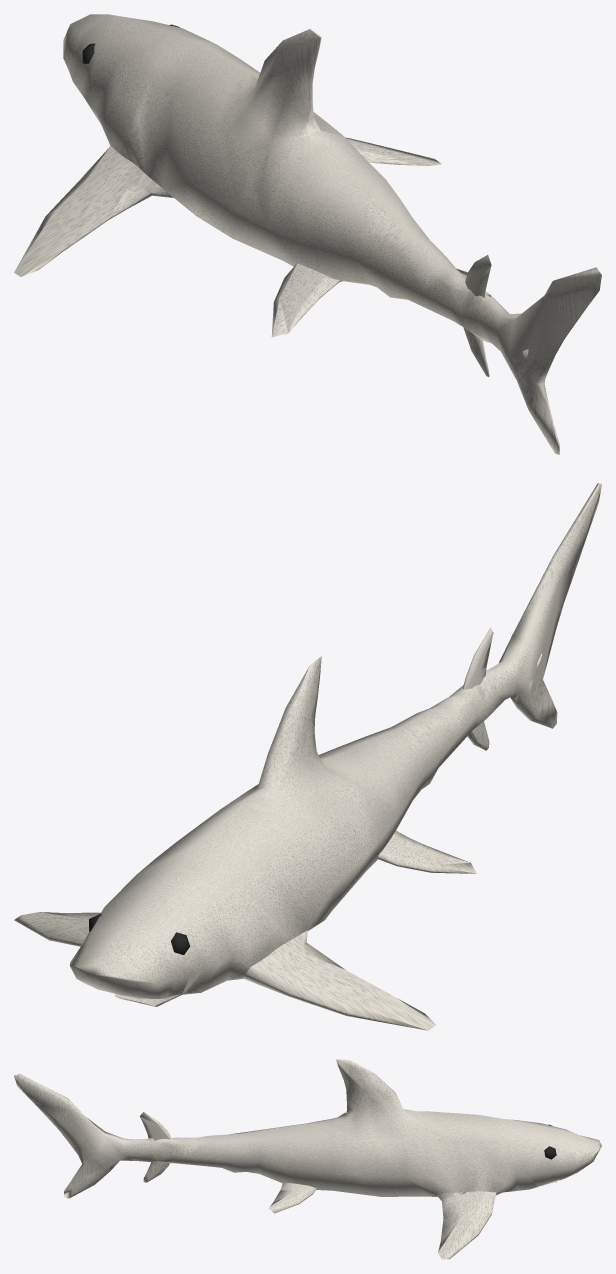
The model's file is shark.gltf.
3 renders of one model, top to bottom at view 1: azimuth 30°, elevation 25°; view 2: azimuth 150°, elevation 25°; view 3: azimuth 270°, elevation 25°, orthographic. The views are drawn at different scales.
Visible parts, largest first — view 1: shark; view 2: shark; view 3: shark.
Part boxes in pixels (x1,y1,x2,y2): shark: [14, 14, 601, 454]; shark: [14, 483, 601, 1030]; shark: [14, 1059, 601, 1259].
Size of the model in its own units: 2.12 by 1.23 by 4.49.
Materials: 2 (1 with a texture image).
